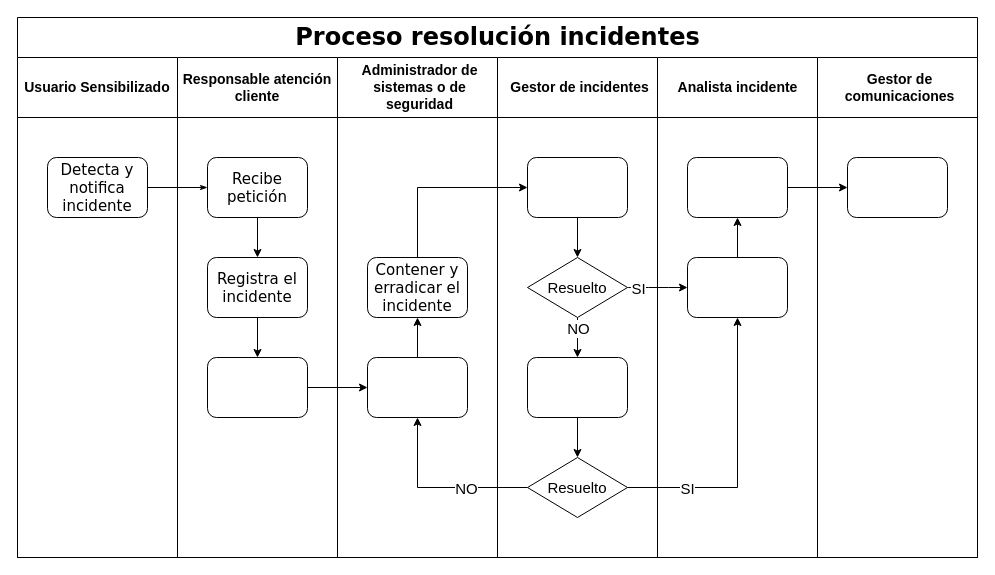
Some shapes in this 995 by 575 pixel diagram are drawn without their labels. The centre of each missing label's shape, as x and y in pixels:
Analizar e identificar el problema: (x=417, y=387)
Clasificar Incidente: (x=257, y=387)
Comunicar a nivel interno y externo: (x=897, y=187)
Informar a autoridades: (x=737, y=187)
Realizar investigación: (x=737, y=287)
Revisar y evaluar la gestión: (x=577, y=187)
Solicitar soporte especializado: (x=577, y=387)
